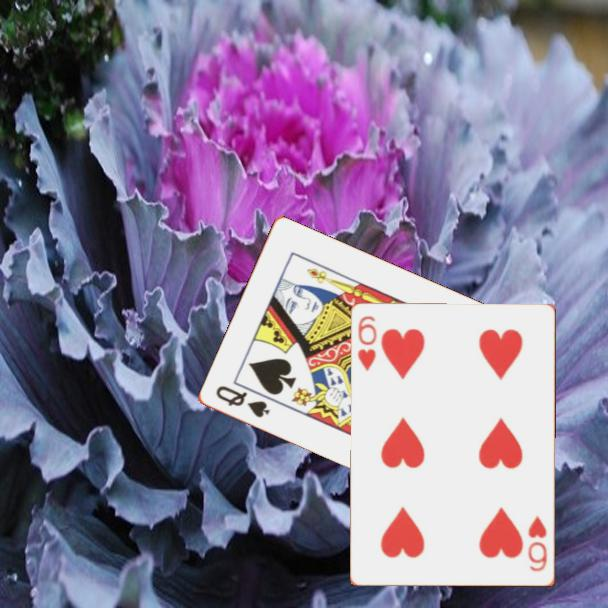h06: (525, 512, 550, 575), (355, 313, 380, 374)
s12: (212, 382, 272, 421)
